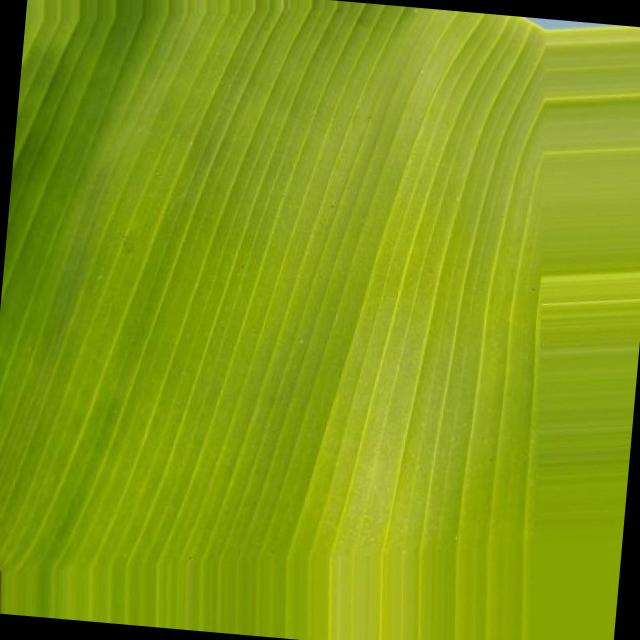Banana_Healthy: (128, 100, 476, 421)
